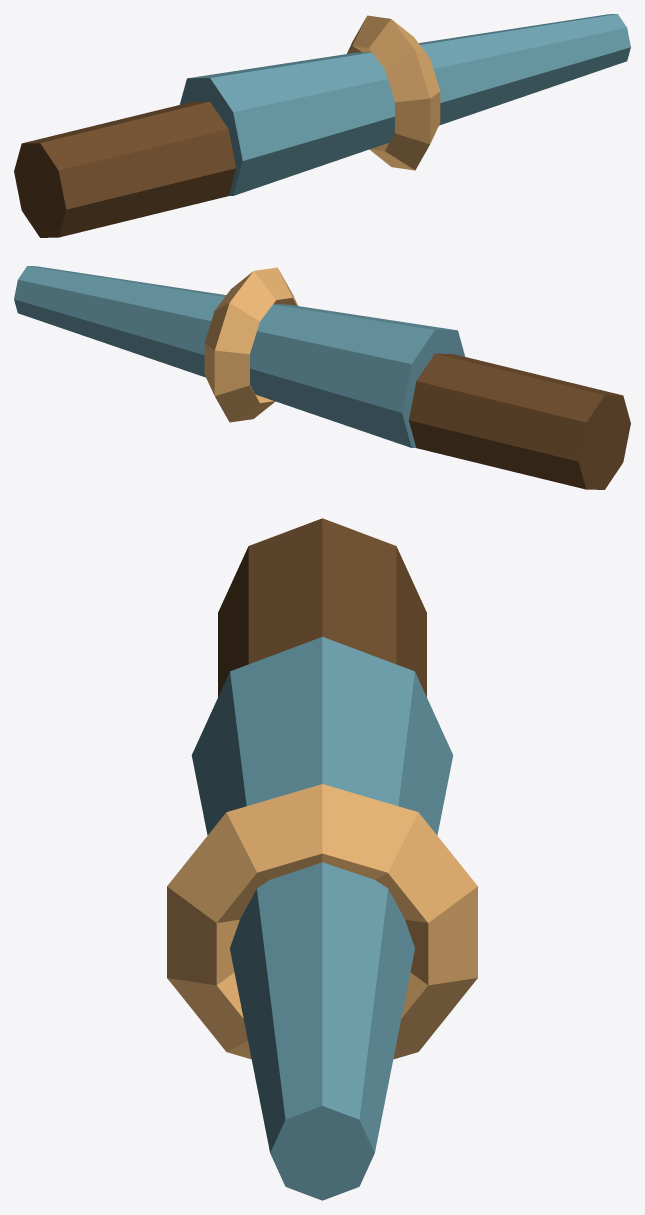
The model's file is mandrel.glb.
3 views of the same model, one above another, from view 1: azimuth 30°, elevation 25°; view 2: azimuth 150°, elevation 25°; view 3: azimuth 270°, elevation 25° (orthographic). The views are drawn at different scales.
Visible parts, largest first — view 1: Mandrel; view 2: Mandrel; view 3: Mandrel.
Part boxes in pixels (x1=…): Mandrel: x1=14, y1=14, x2=630, y2=237; Mandrel: x1=14, y1=266, x2=630, y2=489; Mandrel: x1=167, y1=518, x2=477, y2=1200.
Size of the model in its own units: 1.02 by 0.25 by 0.2378.
